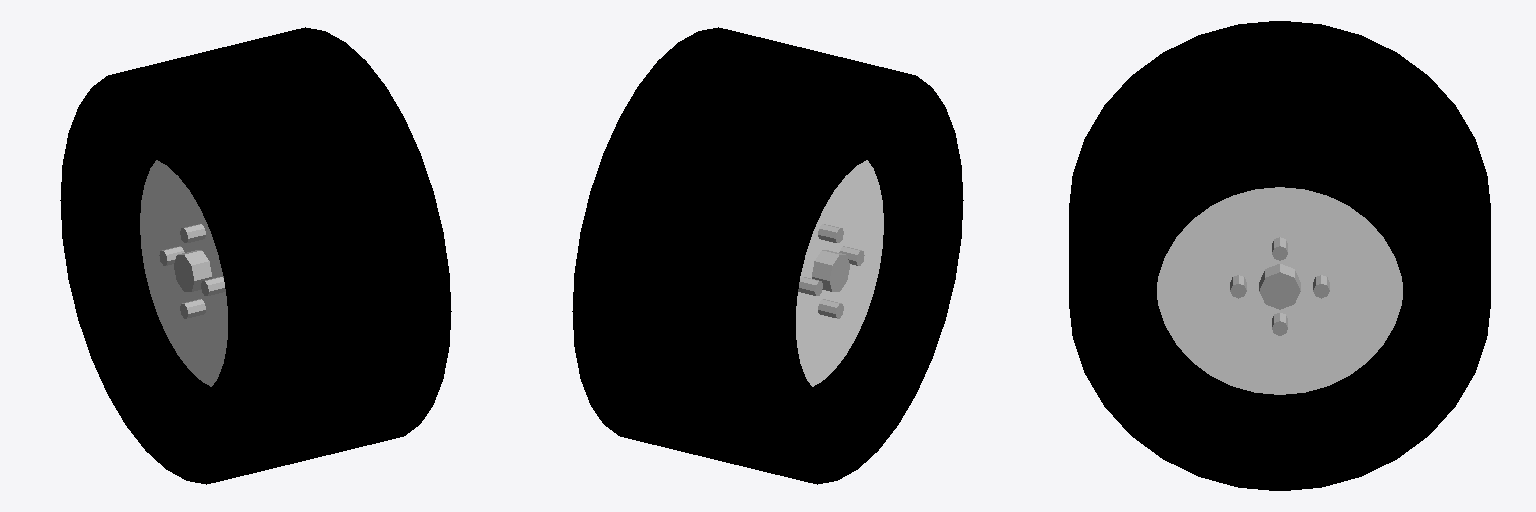
File: wheel.obj
3 views of the same model, side by side, from view 1: azimuth 30°, elevation 25°; view 2: azimuth 150°, elevation 25°; view 3: azimuth 270°, elevation 25° (orthographic).
Size of the model in its own units: 0.5 by 1.02 by 1.02.